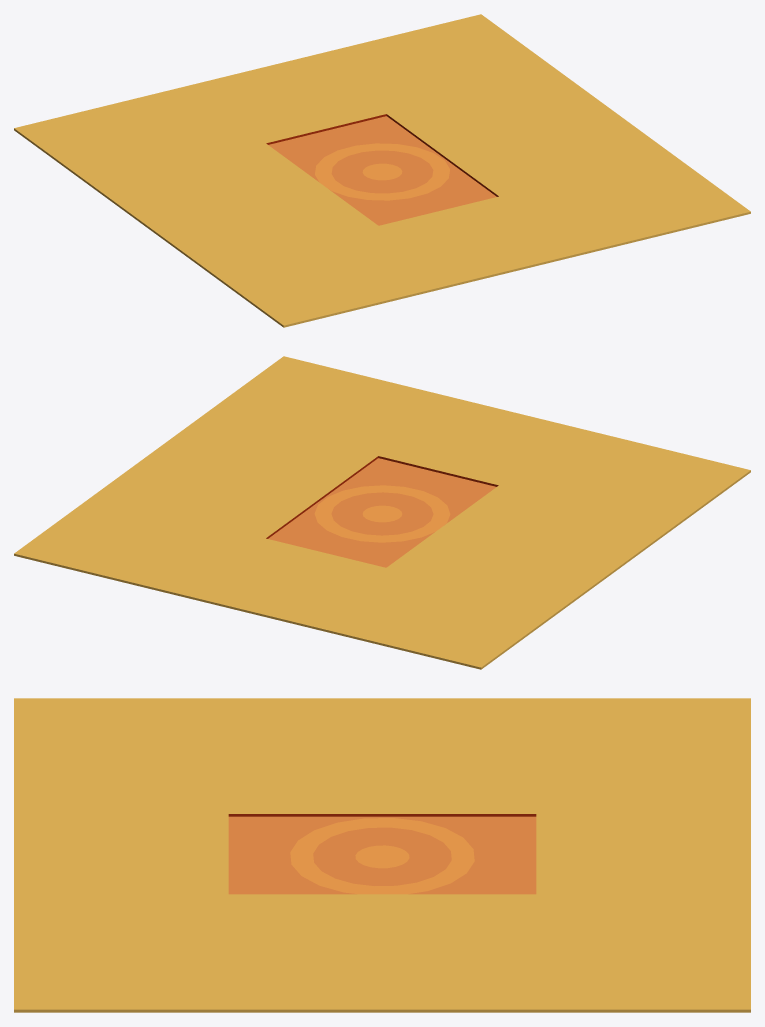
Rendered from Heist_Ground.fbx.
The picture shows the model from 3 angles, top to bottom: view 1: azimuth 30°, elevation 25°; view 2: azimuth 150°, elevation 25°; view 3: azimuth 270°, elevation 25°; orthographic projection. The views are drawn at different scales.
Parts seen in each view (by area): view 1: 1_Heist_Ground; view 2: 1_Heist_Ground; view 3: 1_Heist_Ground.
Part boxes in pixels (x1,y1,x2,y2): 1_Heist_Ground: (14, 14, 750, 327); 1_Heist_Ground: (14, 356, 750, 669); 1_Heist_Ground: (14, 698, 750, 1012).
Bounding box in the file's own units: 164 × 164 × 0.7101.
